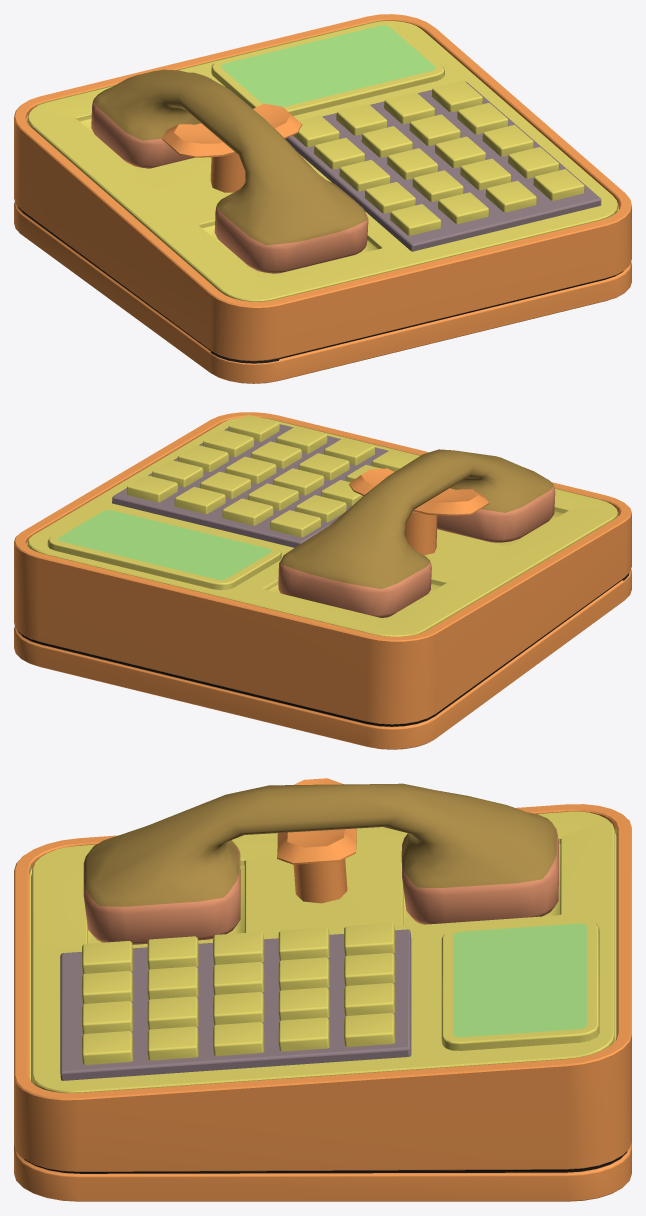
File: Telephone_nib_v01.fbx
3 views of the same model, one above another, from view 1: azimuth 30°, elevation 25°; view 2: azimuth 150°, elevation 25°; view 3: azimuth 270°, elevation 25° (orthographic). The views are drawn at different scales.
Parts seen in each view (by area): view 1: Phoneholder, phone, Monitor_shell_side_Buttons, Phoneholder.003, Monitor_shell_side_plate.001, Phoneholder.001; view 2: Phoneholder, phone, Monitor_shell_side_Buttons, Phoneholder.003, Monitor_shell_side_plate.001, Phoneholder.001; view 3: Phoneholder, phone, Monitor_shell_side_Buttons, Phoneholder.003, Monitor_shell_side_plate.001, Phoneholder.001.
Boxes of the visible parts, x1,y1,x2,y2 form: Phoneholder: (14,14,631,383); phone: (91,69,368,273); Monitor_shell_side_Buttons: (293,80,584,235); Phoneholder.003: (211,21,444,115); Monitor_shell_side_plate.001: (285,81,601,251); Phoneholder.001: (162,103,302,192); Phoneholder: (14,412,631,749); phone: (278,449,555,617); Monitor_shell_side_Buttons: (126,414,418,537); Phoneholder.003: (47,507,281,590); Monitor_shell_side_plate.001: (112,424,388,547); Phoneholder.001: (349,468,489,555); Phoneholder: (14,804,631,1201); phone: (83,783,558,944); Monitor_shell_side_Buttons: (82,923,395,1064); Phoneholder.003: (441,919,599,1050); Monitor_shell_side_plate.001: (60,929,411,1080); Phoneholder.001: (277,778,356,903).
Size of the model in its own units: 25.02 by 10.12 by 25.02.
